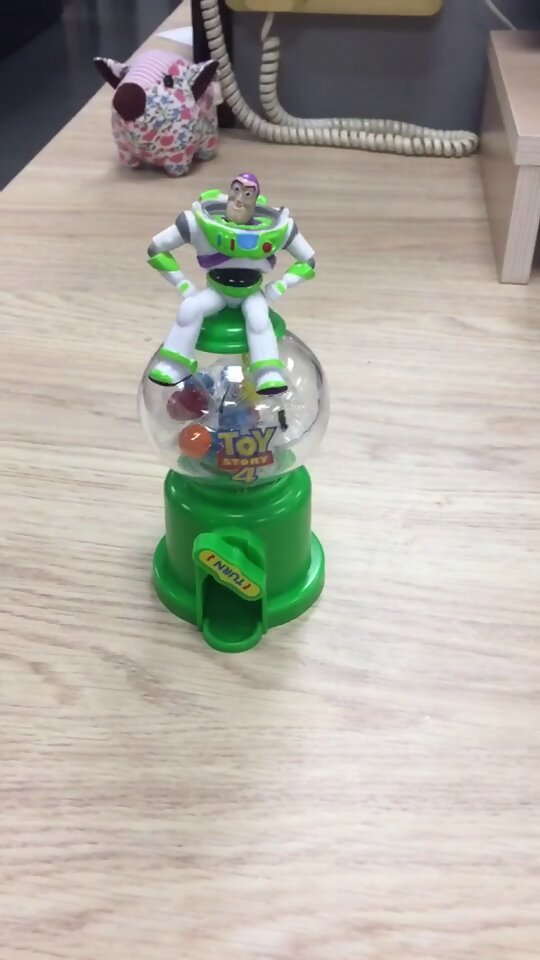buzz: (139, 170, 331, 658)
